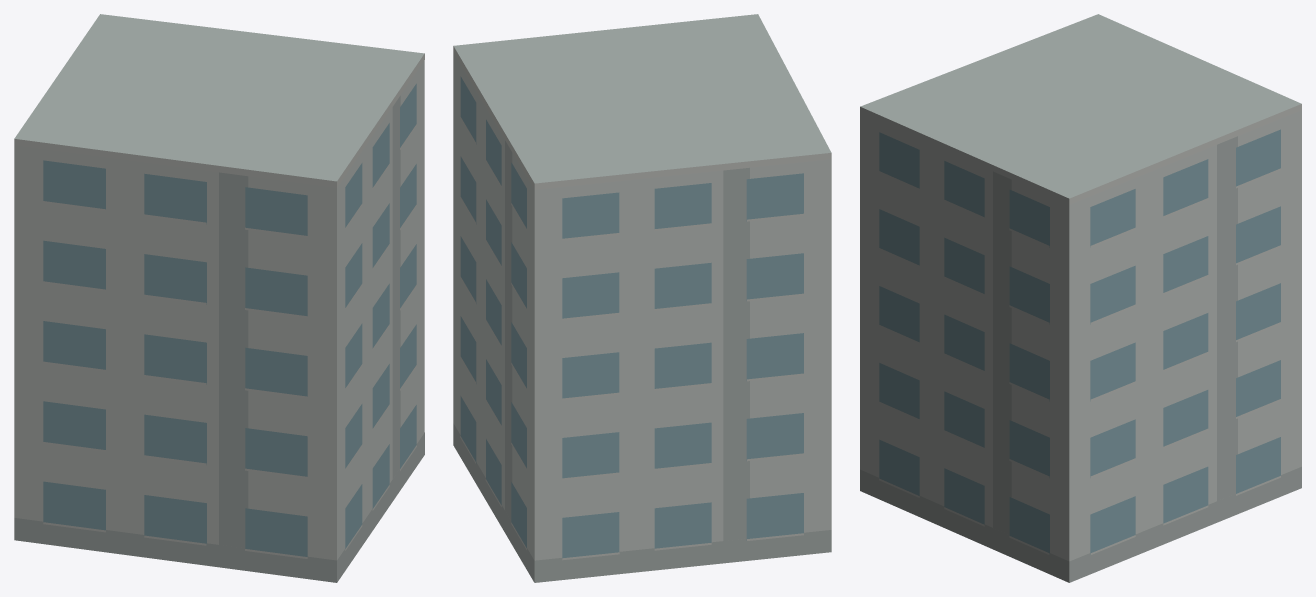
File: survey-upis-32885059.glb
3 renders of one model, left to right at view 1: azimuth 30°, elevation 25°; view 2: azimuth 150°, elevation 25°; view 3: azimuth 270°, elevation 25°, orthographic. The views are drawn at different scales.
Parts seen in each view (by area): view 1: survey-upis-32885059.tmp; view 2: survey-upis-32885059.tmp; view 3: survey-upis-32885059.tmp.
Boxes of the visible parts, left/top/right/bottom form: survey-upis-32885059.tmp: left=14, top=14, right=424, bottom=582; survey-upis-32885059.tmp: left=453, top=14, right=831, bottom=582; survey-upis-32885059.tmp: left=860, top=14, right=1301, bottom=582.
Size of the model in its own units: 15.36 by 14.9 by 15.53.
